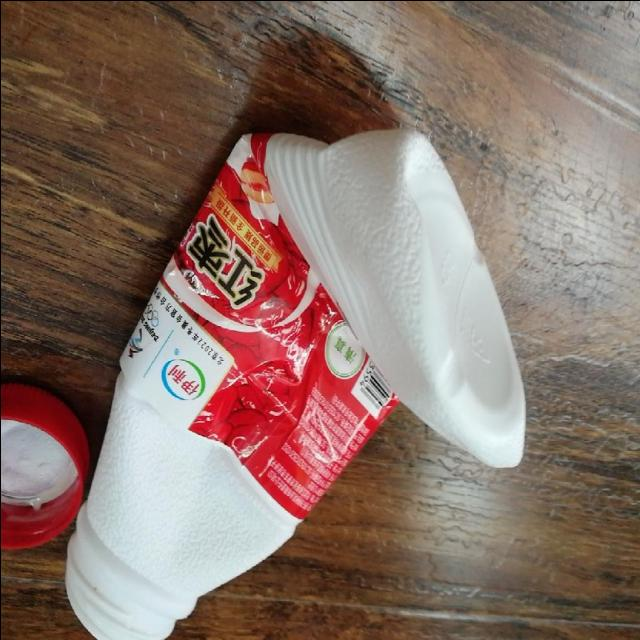-Recyclables - plastic bottle-: (61, 125, 519, 640)
